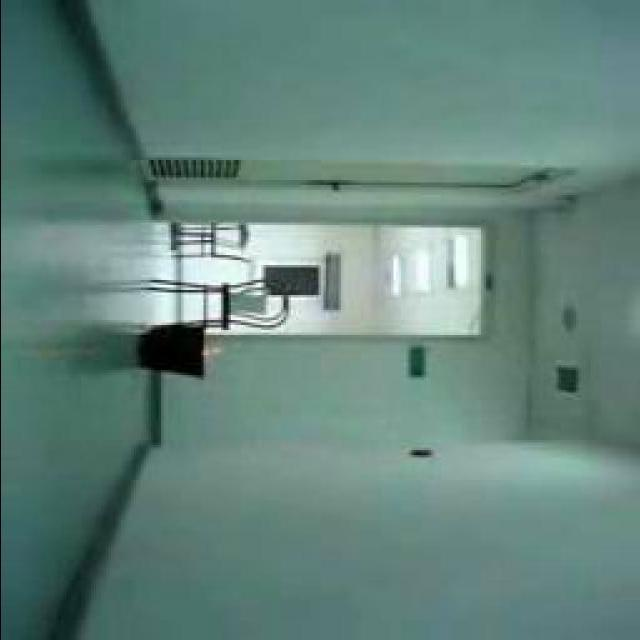Fire: (198, 348, 226, 368)
